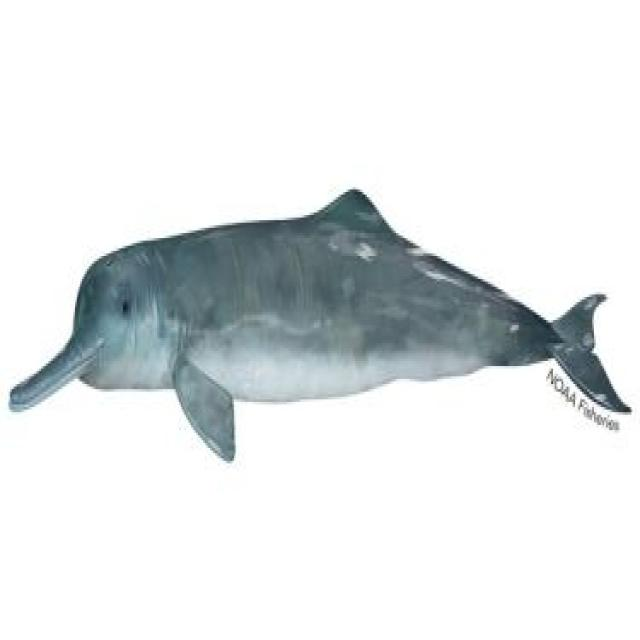penguin: (10, 189, 628, 458)
